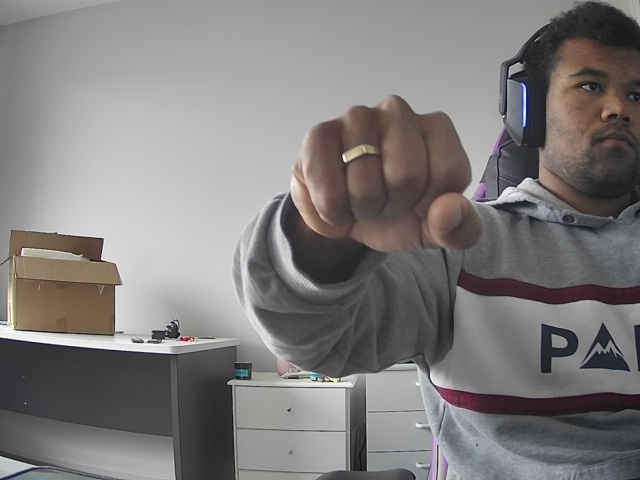Yes: (264, 86, 493, 264)
